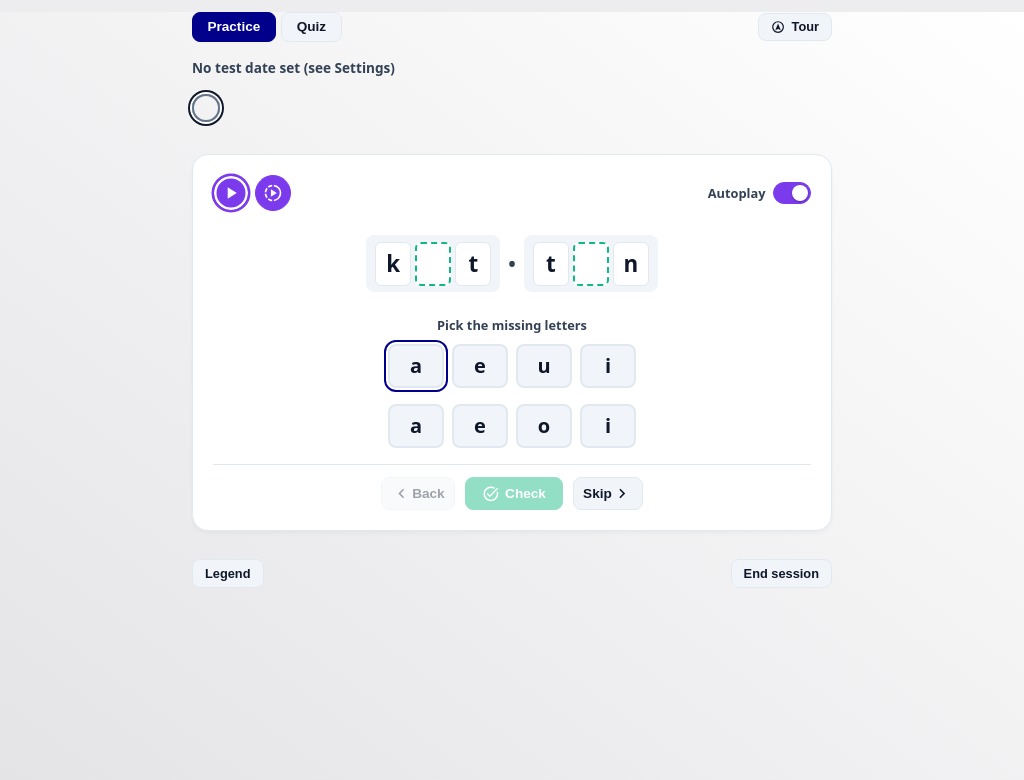
it: Smart hiding in the deck › words without the lesson pattern are still picked from choices at level 1, with their own wrong letters
expect the number of elements named "Choose the letters for blank" is 2: met, box [388, 344, 636, 388]; [388, 404, 636, 448]
Click the 1st button "e": point(480, 366) [452, 344, 508, 388]
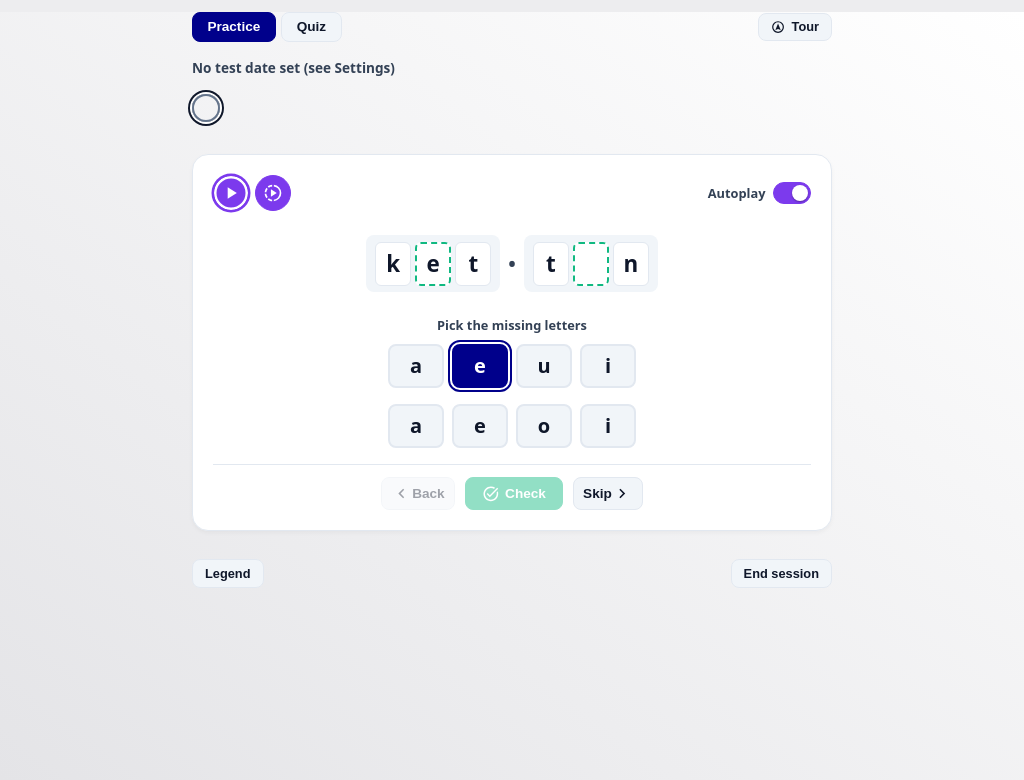
Click the 2nd button "e": point(480, 426) [452, 404, 508, 448]
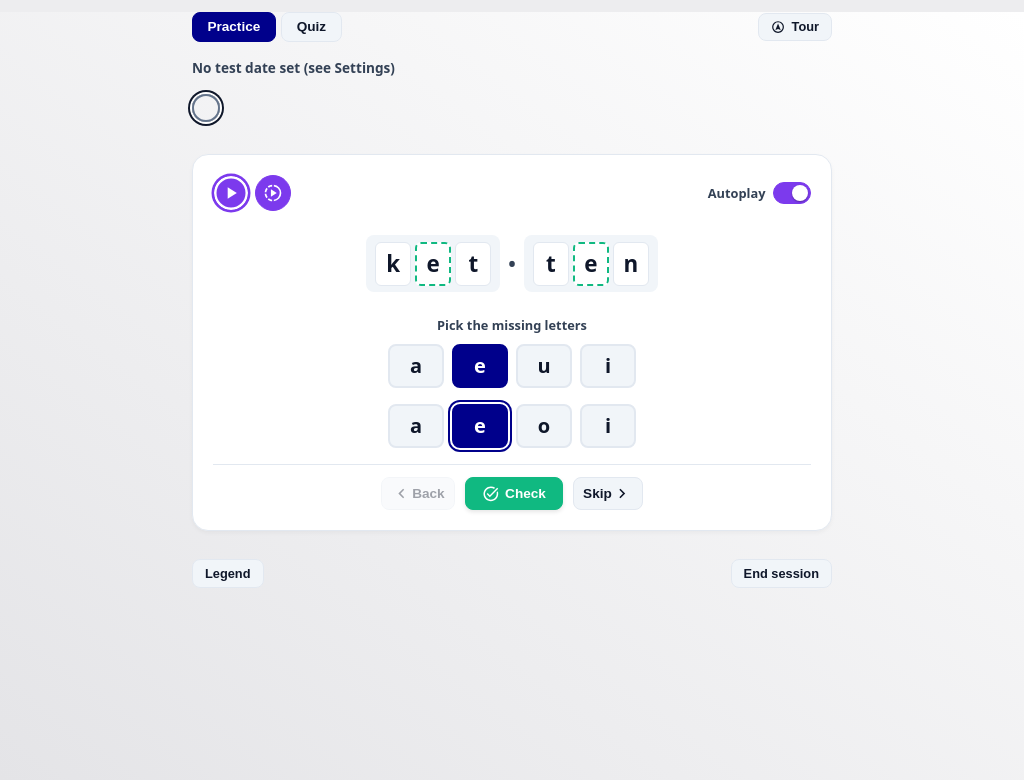
Click the button with aria-label "Check your answer for kitten": point(514, 493) [465, 477, 563, 510]
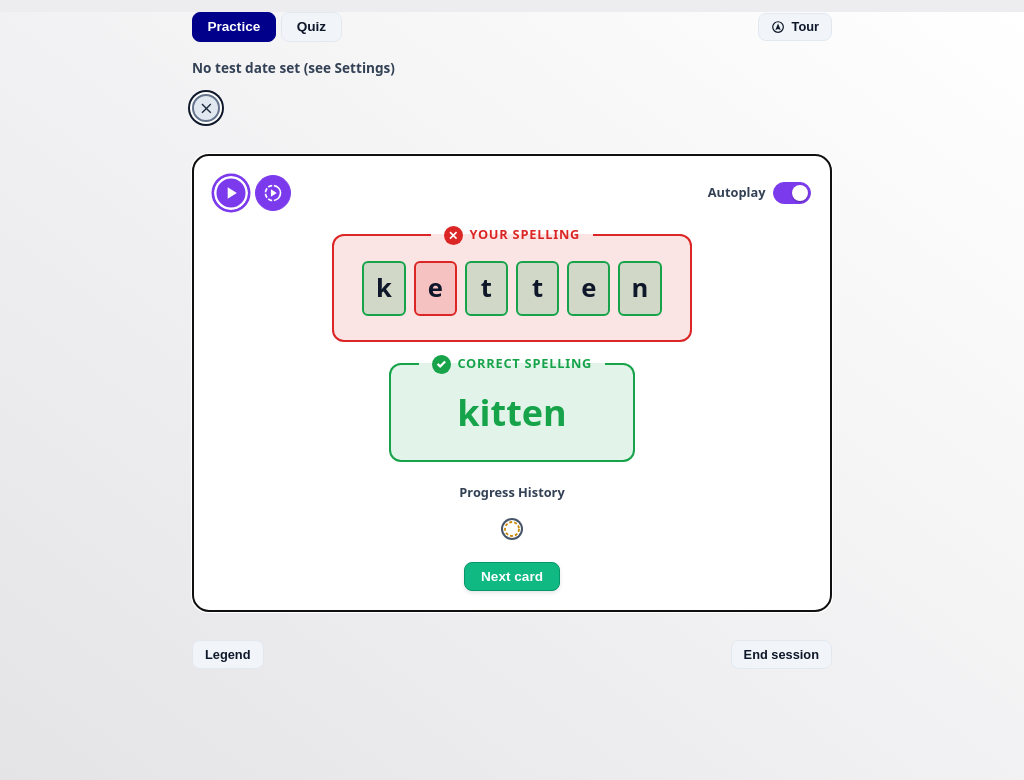
expect the text "Progress History" is shown: met, box [459, 483, 565, 502]
